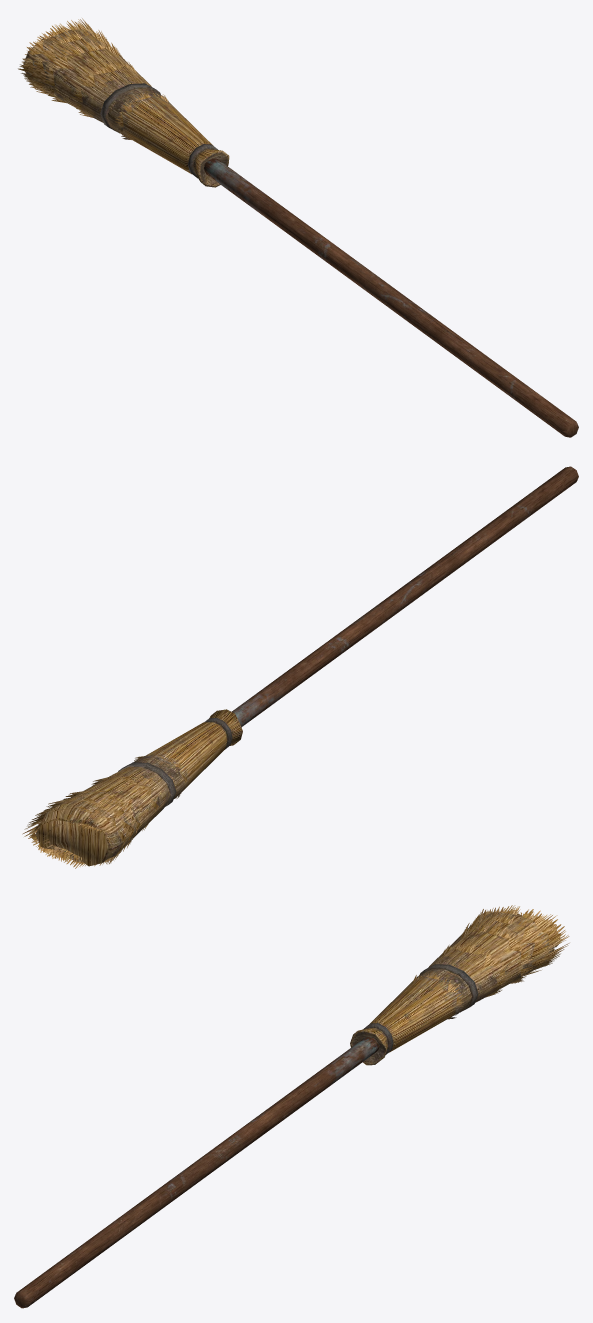
File: balais-kiki.glb
3 renders of one model, top to bottom at view 1: azimuth 30°, elevation 25°; view 2: azimuth 150°, elevation 25°; view 3: azimuth 330°, elevation 25°, orthographic. The views are drawn at different scales.
Parts seen in each view (by area): view 1: Metla_Metla_0; view 2: Metla_Metla_0; view 3: Metla_Metla_0.
Part boxes in pixels (x1,y1,x2,y2): Metla_Metla_0: [18, 18, 578, 437]; Metla_Metla_0: [22, 466, 578, 868]; Metla_Metla_0: [14, 905, 569, 1308].
Bounding box in the file's own units: 3.02 × 1.98 × 28.38.
1 material, 1 textured.
